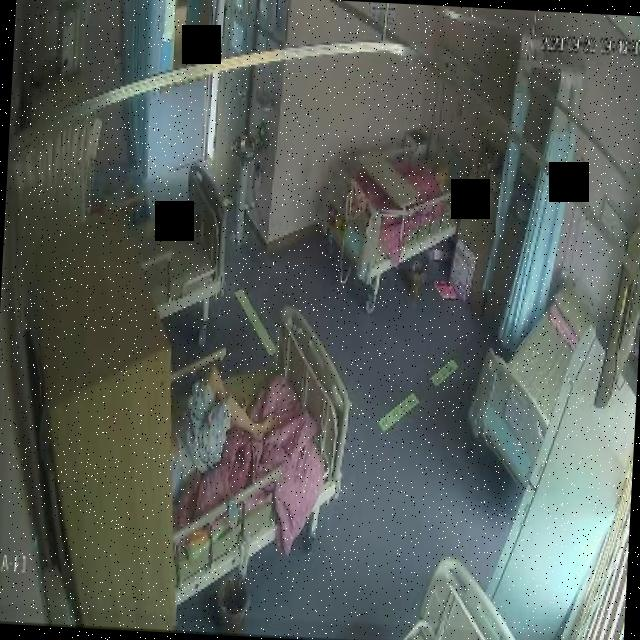bed: (161, 302, 356, 576), (304, 114, 468, 311), (464, 286, 592, 495), (125, 158, 232, 323)
lie: (168, 369, 280, 478)
patient: (167, 368, 275, 479)
